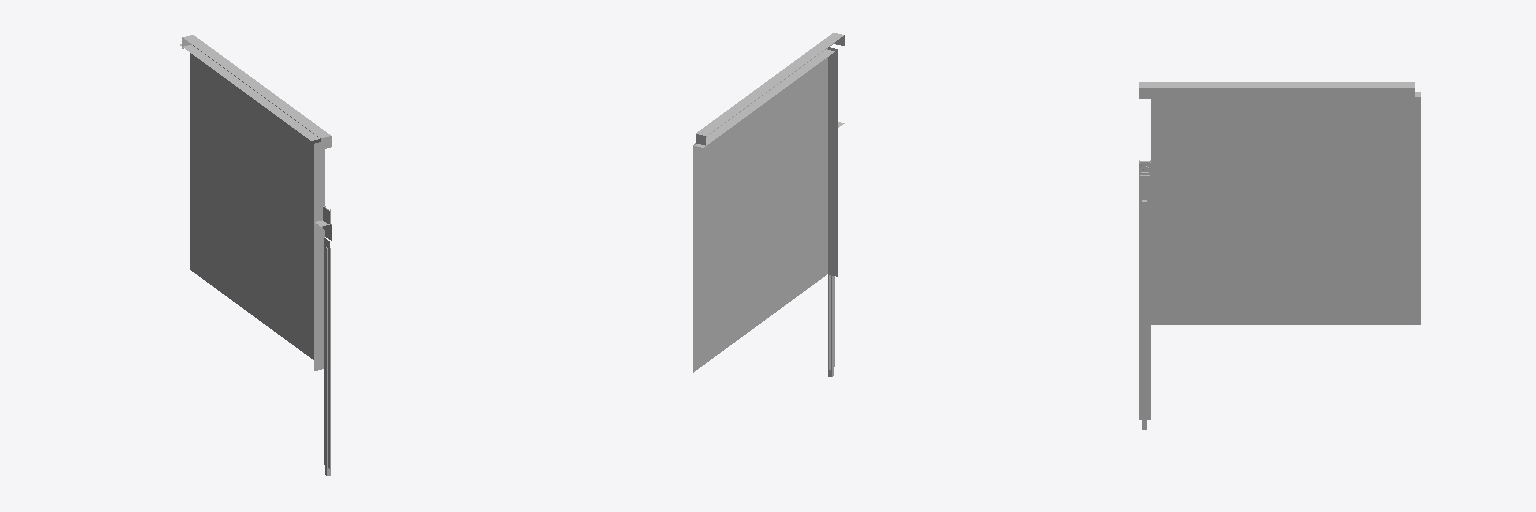
The model's file is sand_stone_north_west_corner.obj.
The picture shows the model from 3 angles: view 1: azimuth 30°, elevation 25°; view 2: azimuth 150°, elevation 25°; view 3: azimuth 270°, elevation 25°; orthographic projection.
Parts seen in each view (by area): view 1: MeshInstance3D2, MeshInstance3D5, MeshInstance3D3, MassiveWall; view 2: MeshInstance3D2, MeshInstance3D5; view 3: MeshInstance3D2, MeshInstance3D5, MassiveWall, MeshInstance3D3.
Boxes of the visible parts, box(x1,y1,x2,y2) form: MeshInstance3D2: box(180, 44, 324, 370); MeshInstance3D5: box(182, 35, 331, 149); MeshInstance3D3: box(325, 247, 330, 475); MassiveWall: box(324, 238, 329, 468); MeshInstance3D2: box(693, 47, 837, 372); MeshInstance3D5: box(696, 33, 844, 145); MeshInstance3D2: box(1151, 92, 1420, 324); MeshInstance3D5: box(1139, 82, 1414, 98); MassiveWall: box(1139, 193, 1150, 419); MeshInstance3D3: box(1142, 200, 1146, 429).
Size of the model in its own units: 1.1 by 29.96 by 22.5.